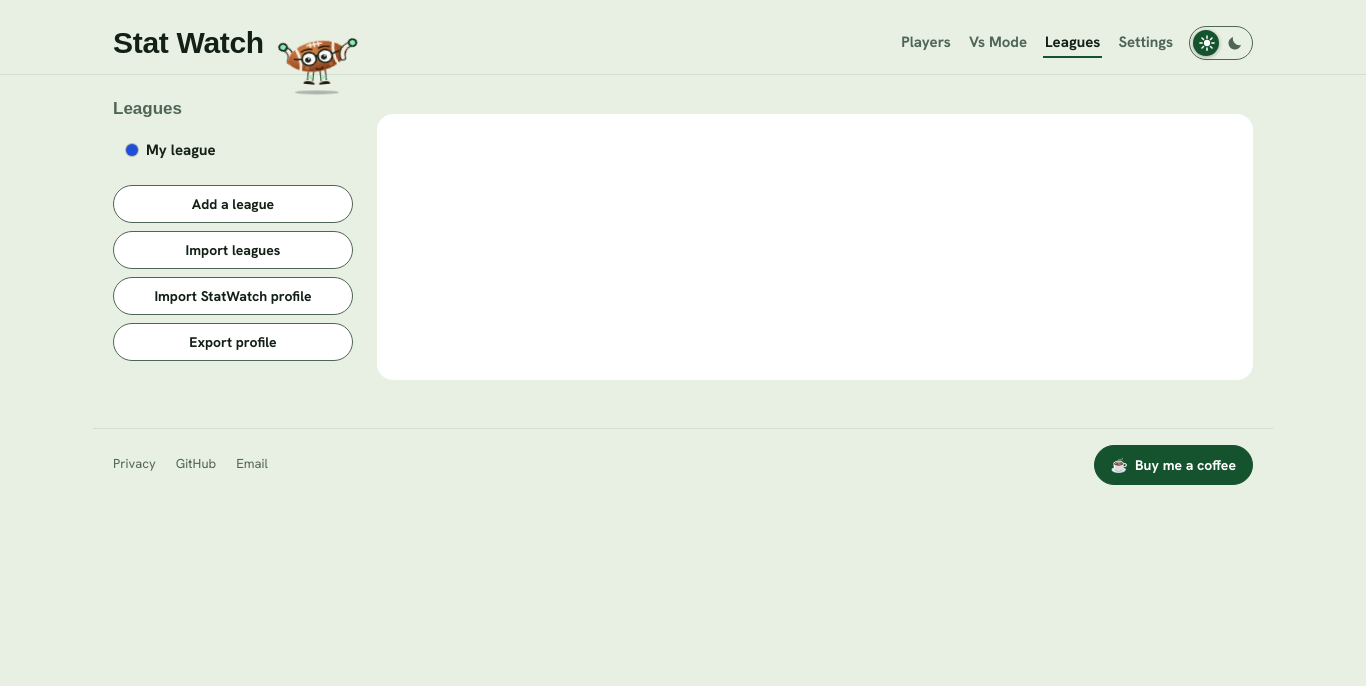
Test case: leagues page › collapsible boxes › starts the main boxes open and the optional ones closed, then folds and unfolds each by its title
Click the button "My league" at coordinates (233, 151), box x1=113 y1=129 x2=353 y2=173
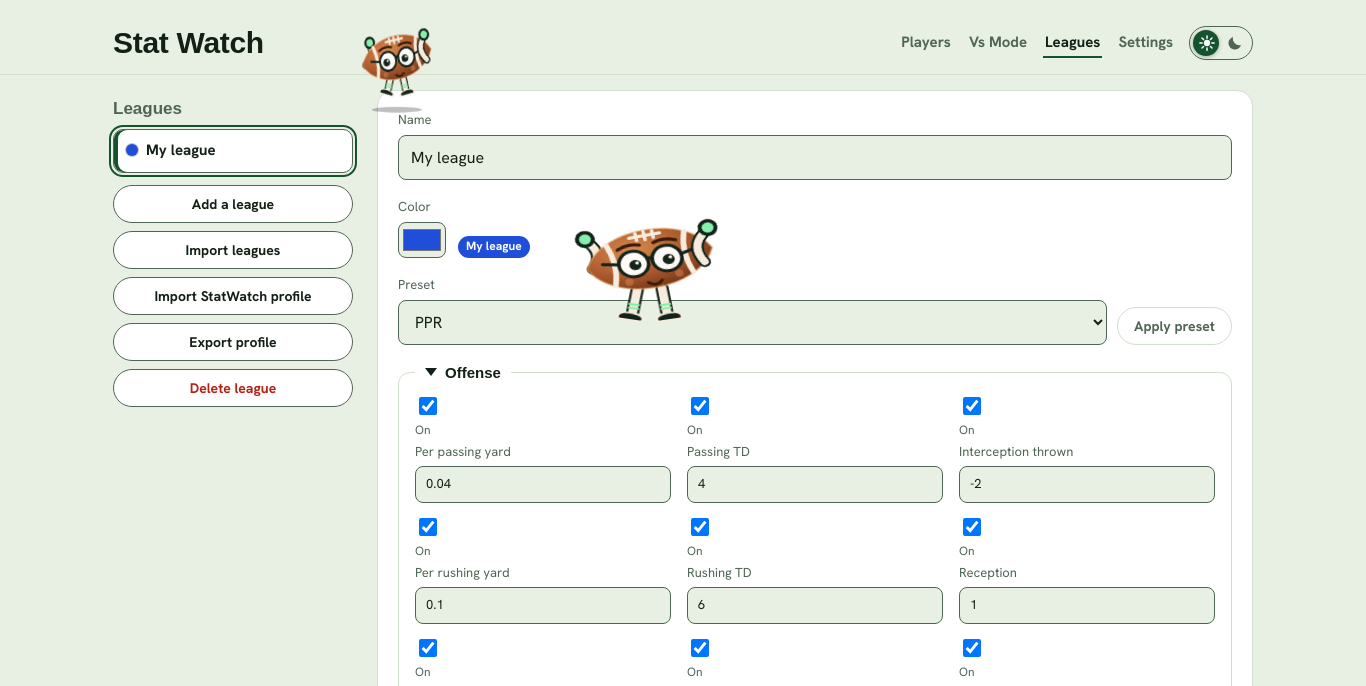
Now the number field labelled "Passing TD" is shown, box x1=687 y1=466 x2=943 y2=503
Click the button "Offense" at coordinates (463, 372), box x1=421 y1=363 x2=505 y2=382
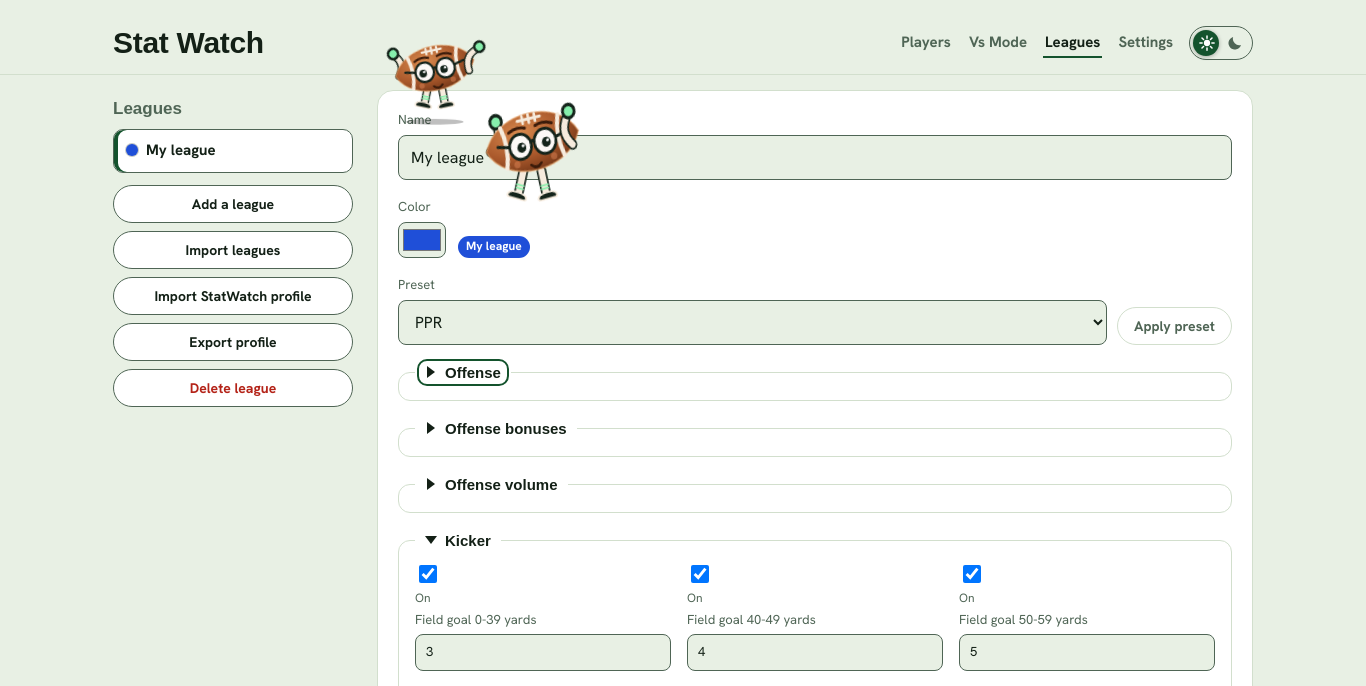
Now the button "Offense" is collapsed, box x1=421 y1=363 x2=505 y2=382
Now the label labelled "Passing TD" is gone
Click the button "Offense bonuses" at coordinates (496, 428), box x1=421 y1=419 x2=571 y2=438
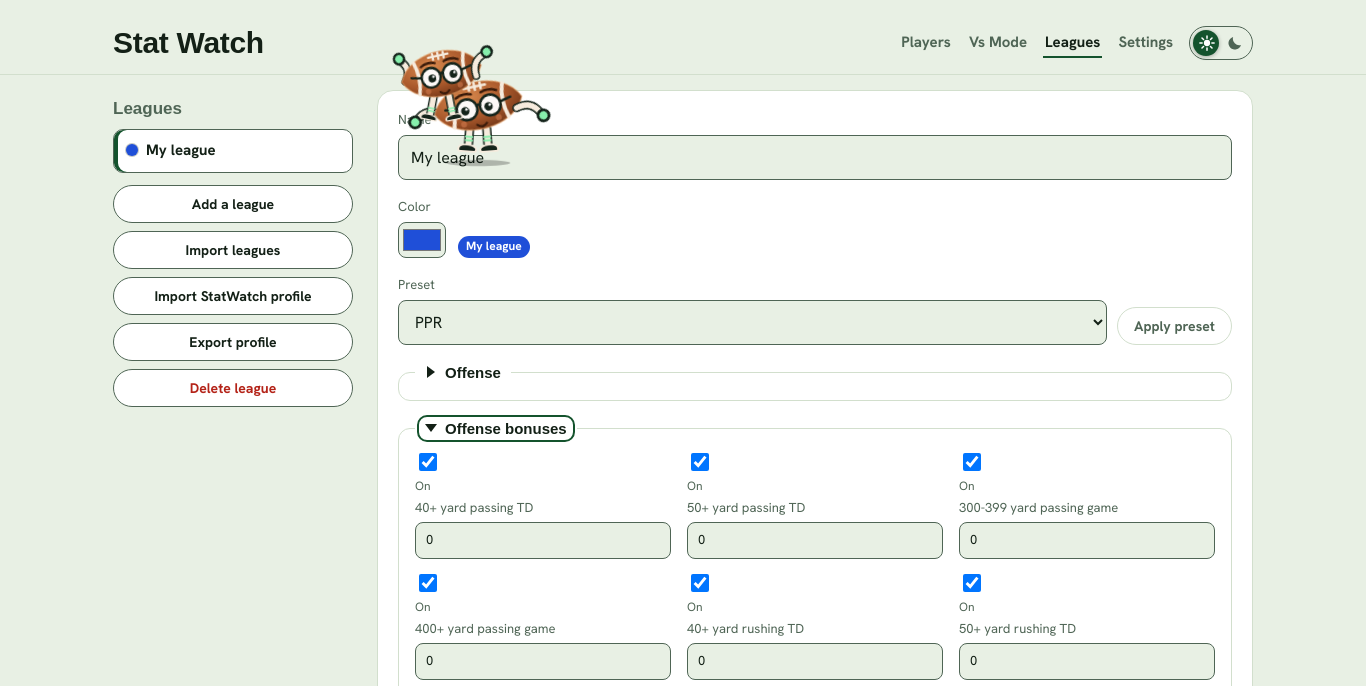
Now the number field labelled "40+ yard passing TD" is shown, box x1=415 y1=522 x2=671 y2=559
Click the button "Offense" at coordinates (463, 372), box x1=421 y1=363 x2=505 y2=382
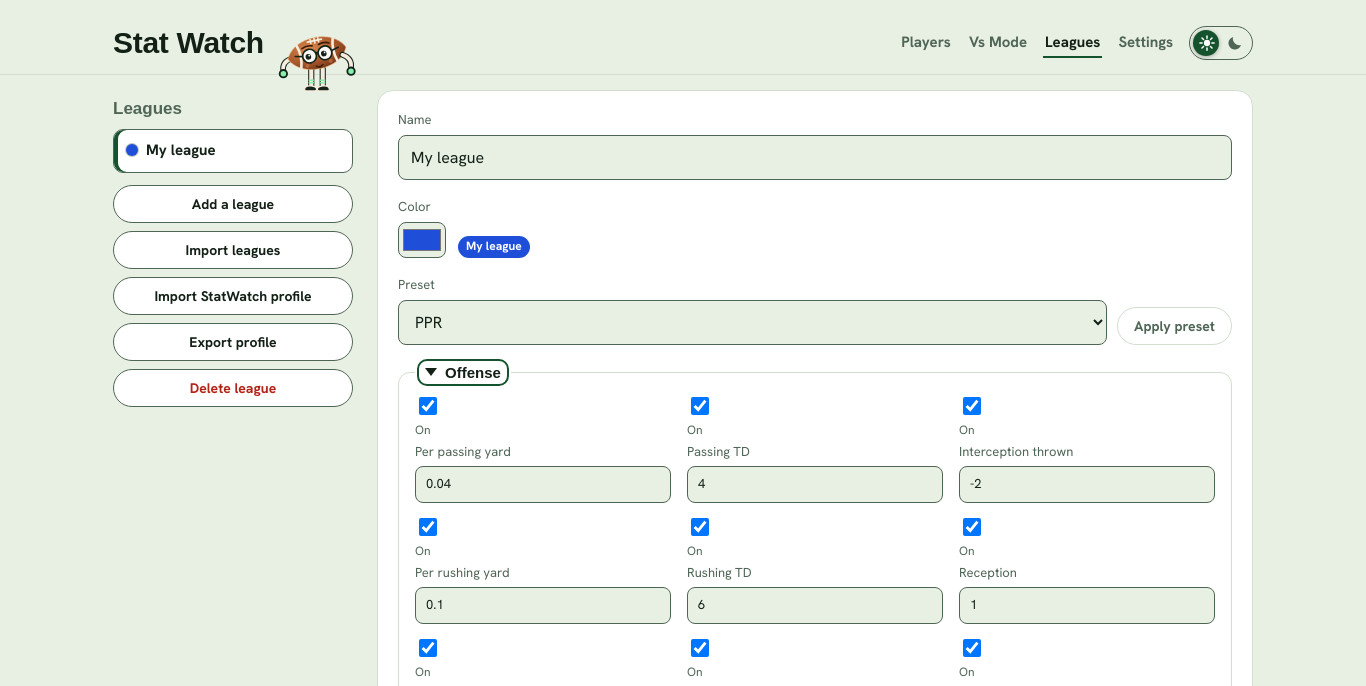
Now the number field labelled "Passing TD" is shown, box x1=687 y1=466 x2=943 y2=503
